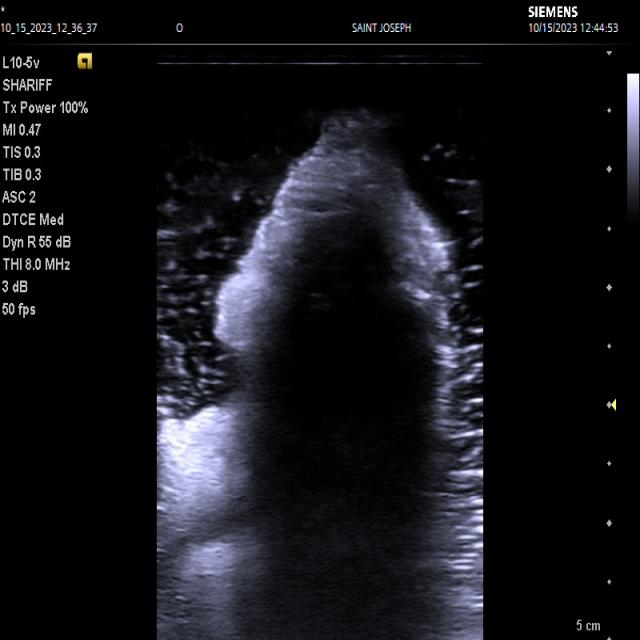tissue: (157, 122, 458, 640)
